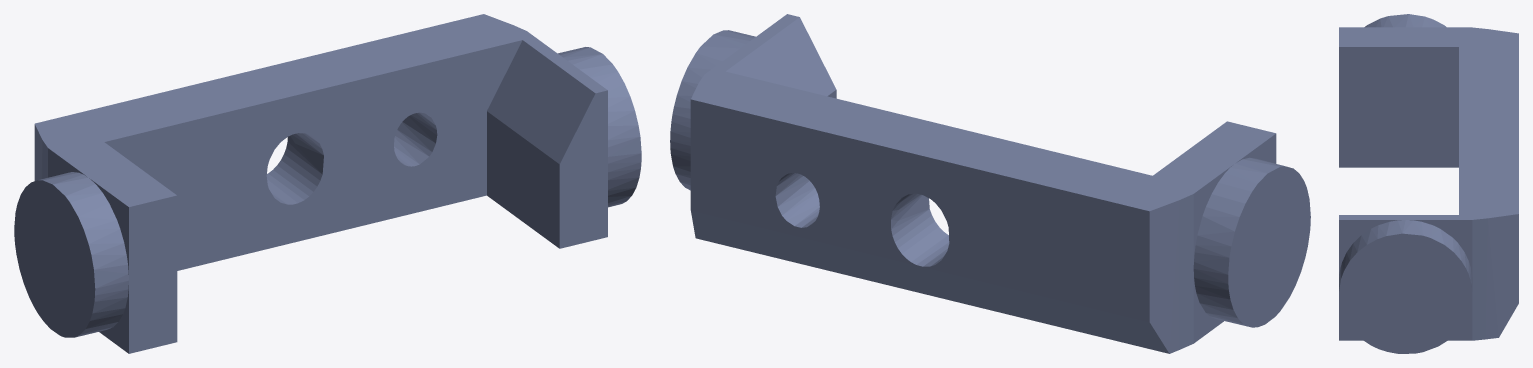
File: i02_head_right_eye_horizontal_visual.obj.balanced.glb
The picture shows the model from 3 angles, left to right: view 1: azimuth 30°, elevation 25°; view 2: azimuth 150°, elevation 25°; view 3: azimuth 270°, elevation 25°; orthographic projection. The views are drawn at different scales.
Bounding box in the file's own units: 0.1838 × 0.0472 × 0.0637.
